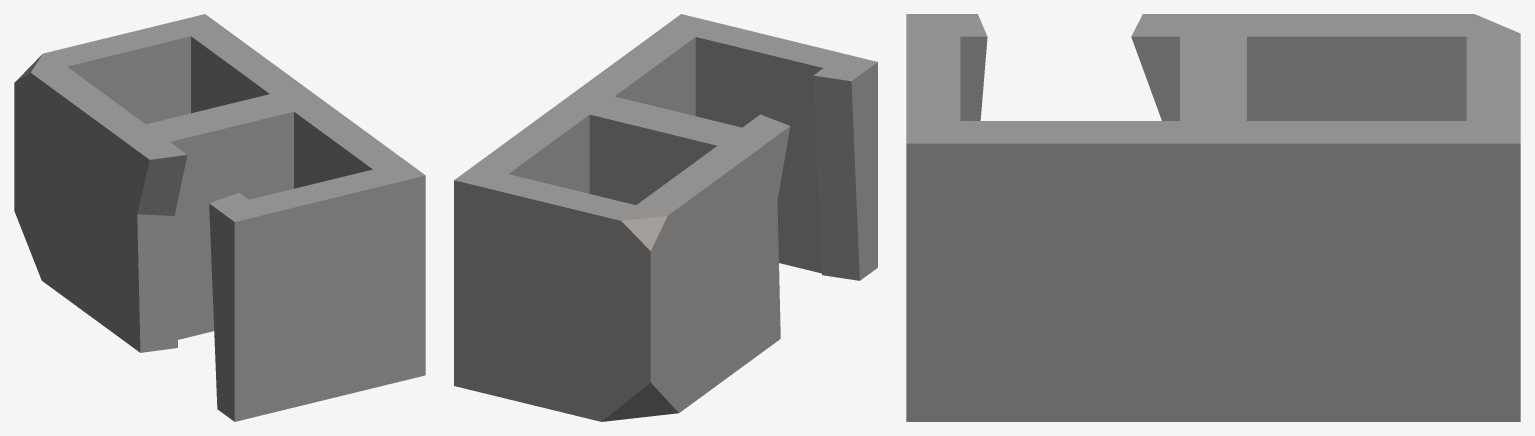
Rendered from SM_Prop_Block_02.fbx.
3 renders of one model, left to right at view 1: azimuth 30°, elevation 25°; view 2: azimuth 150°, elevation 25°; view 3: azimuth 270°, elevation 25°, orthographic. The views are drawn at different scales.
Parts seen in each view (by area): view 1: SM_Prop_Block_02; view 2: SM_Prop_Block_02; view 3: SM_Prop_Block_02.
Boxes of the visible parts, x1,y1,x2,y2 form: SM_Prop_Block_02: [14, 14, 425, 421]; SM_Prop_Block_02: [454, 14, 877, 421]; SM_Prop_Block_02: [906, 14, 1520, 421].
Bounding box in the file's own units: 21.68 × 21.68 × 43.35.
